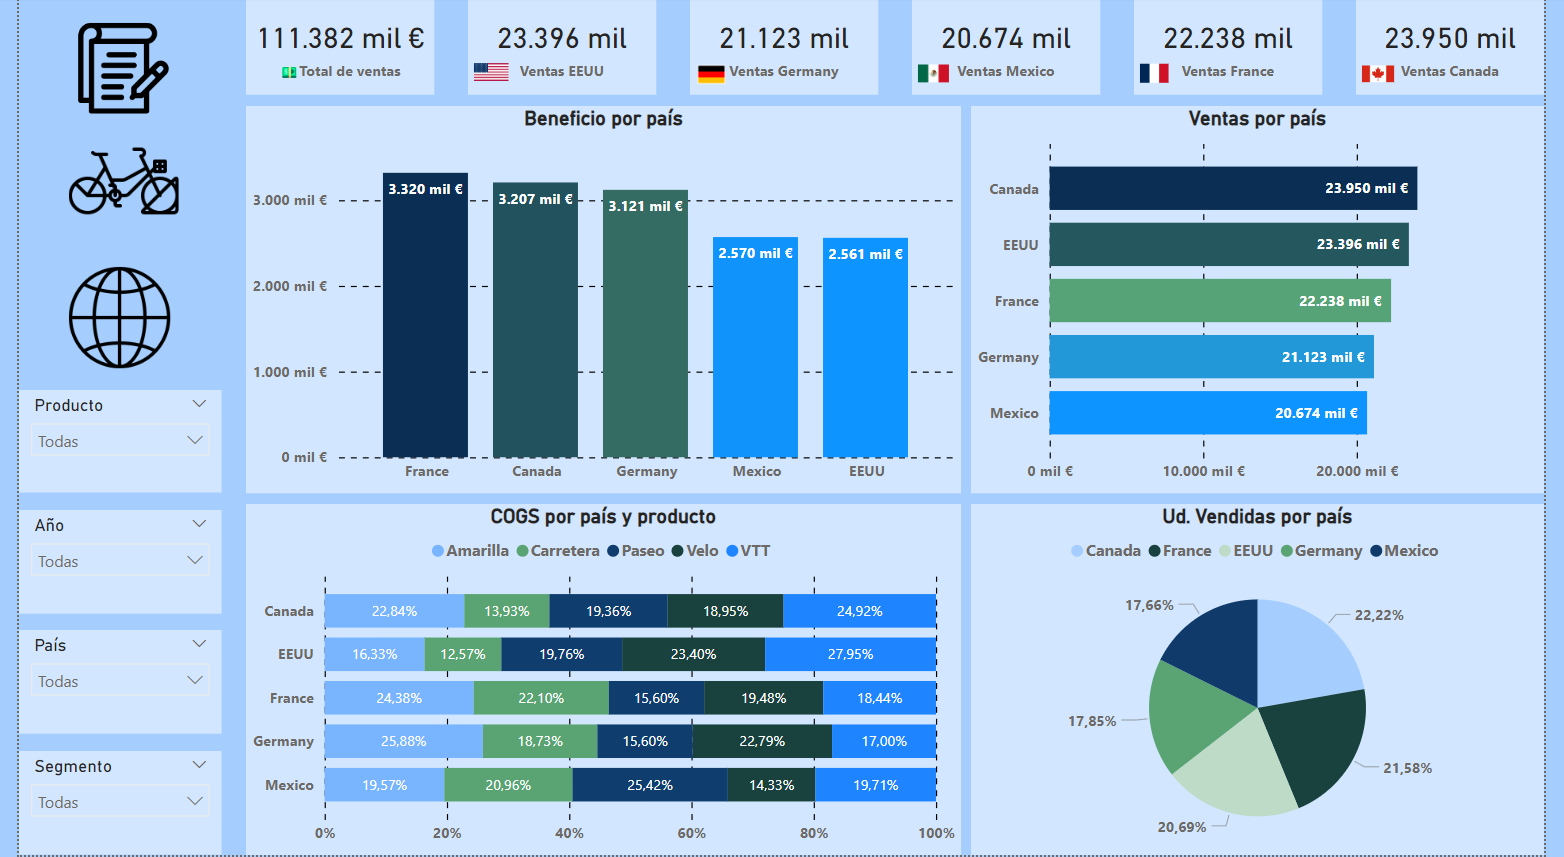

This screenshot's page, from the dashboard's own definition file:
{"tool":"powerbi","page":{"name":"Zona","canvas":[1280,720],"ordinal":2},"visuals":[{"type":"card","fields":{"Values":["Dax Medidas.Ventas EEUU"]},"box":[376.8,0,157.8,82.2],"z":0},{"type":"card","fields":{"Values":["Dax Medidas.Ventas Germany"]},"box":[563.1,0,157.8,82.2],"z":1000},{"type":"card","fields":{"Values":["Dax Medidas.Ventas Mexico"]},"box":[749.4,0,157.8,82.2],"z":2000},{"type":"card","fields":{"Values":["Dax Medidas.Ventas France"]},"box":[935.7,0,157.8,82.2],"z":3000},{"type":"card","fields":{"Values":["Dax Medidas.Ventas Canada"]},"box":[1122,0,157.8,82.2],"z":4000},{"type":"clusteredBarChart","title":"Ventas  por país","fields":{"Y":["Sum(financials.Ventas brutas)"],"Category":["financials.País"]},"box":[798.9,91.5,480.8,324.8],"z":5000},{"type":"clusteredColumnChart","title":"Beneficio por país","fields":{"Category":["financials.País"],"Y":["Sum(financials.Beneficio)"]},"box":[190.5,91.5,600,324.8],"z":6000},{"type":"pieChart","title":"Ud. Vendidas por país","fields":{"Y":["Sum(financials.Ud. Vendidas)"],"Category":["financials.País"]},"box":[798.9,425.5,480.8,294.5],"z":7000},{"type":"hundredPercentStackedBarChart","title":"COGS por país y producto","fields":{"Category":["financials.País"],"Y":["Avg(financials.COGS)"],"Series":["financials.Producto"]},"box":[190.5,425.5,600,294.5],"z":8000},{"type":"card","fields":{"Values":["Sum(financials.Ventas brutas)"]},"box":[190.5,0,157.8,82.2],"z":9000},{"type":"slicer","fields":{"Values":["Calendar.Date.Variación.Jerarquía de fechas.Año"]},"box":[0,430.3,170.3,87.3],"z":10000},{"type":"slicer","fields":{"Values":["financials.País"]},"box":[0,531.5,170.3,87.3],"z":11000},{"type":"slicer","fields":{"Values":["financials.Segmento"]},"box":[0,632.7,170.3,87.3],"z":12000},{"type":"slicer","fields":{"Values":["financials.Producto"]},"box":[0,330,170.3,86.4],"z":13000},{"type":"image","box":[36.9,102.4,101.5,104.9],"z":14000},{"type":"image","box":[36.9,221.2,94.8,94.8],"z":15000},{"type":"image","box":[43.6,16.8,88.1,85.6],"z":16000},{"type":"image","box":[376.8,44.5,38.6,37.8],"z":17000},{"type":"image","box":[563.1,47,36.1,35.2],"z":18000},{"type":"image","box":[749.4,43.6,36.1,41.1],"z":19000},{"type":"image","box":[935.7,47,34.4,34.4],"z":20000},{"type":"image","box":[1122,44.5,36.9,40.3],"z":21000}]}

Visuals, with their boxes on the page's 1280x720 design canvas (x1, y1, x2, y2). These are canvas units, not pixel positions in the 1564x857 screenshot, which may show the page scaled, cropped or inside an application window:
card - Dax Medidas.Ventas EEUU: [377, 0, 535, 82]
card - Dax Medidas.Ventas Germany: [563, 0, 721, 82]
card - Dax Medidas.Ventas Mexico: [749, 0, 907, 82]
card - Dax Medidas.Ventas France: [936, 0, 1094, 82]
card - Dax Medidas.Ventas Canada: [1122, 0, 1280, 82]
"Ventas  por país" clusteredBarChart: [799, 92, 1280, 416]
"Beneficio por país" clusteredColumnChart: [190, 92, 790, 416]
"Ud. Vendidas por país" pieChart: [799, 426, 1280, 720]
"COGS por país y producto" hundredPercentStackedBarChart: [190, 426, 790, 720]
card - Sum(financials.Ventas brutas): [190, 0, 348, 82]
slicer - Calendar.Date.Variación.Jerarquía de fechas.Año: [0, 430, 170, 518]
slicer - financials.País: [0, 532, 170, 619]
slicer - financials.Segmento: [0, 633, 170, 720]
slicer - financials.Producto: [0, 330, 170, 416]
image: [37, 102, 138, 207]
image: [37, 221, 132, 316]
image: [44, 17, 132, 102]
image: [377, 44, 415, 82]
image: [563, 47, 599, 82]
image: [749, 44, 786, 85]
image: [936, 47, 970, 81]
image: [1122, 44, 1159, 85]
